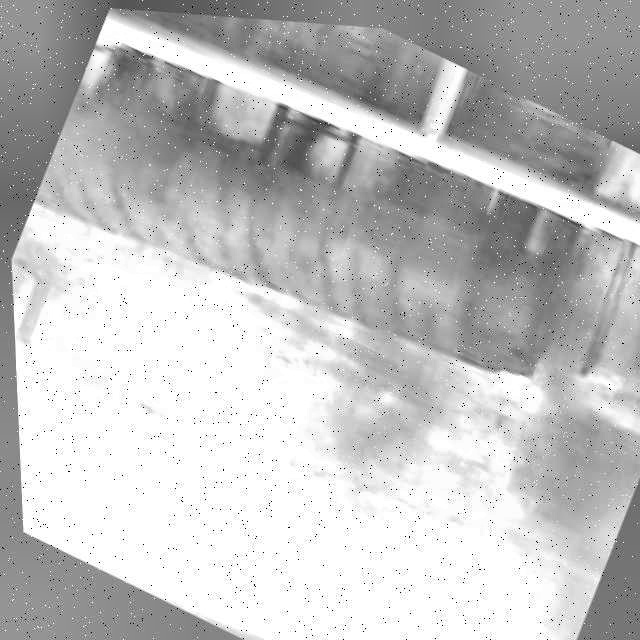Fire: (169, 50, 402, 205), (493, 173, 603, 257), (135, 8, 364, 48), (584, 127, 640, 241)
Smoke: (2, 58, 640, 640)
